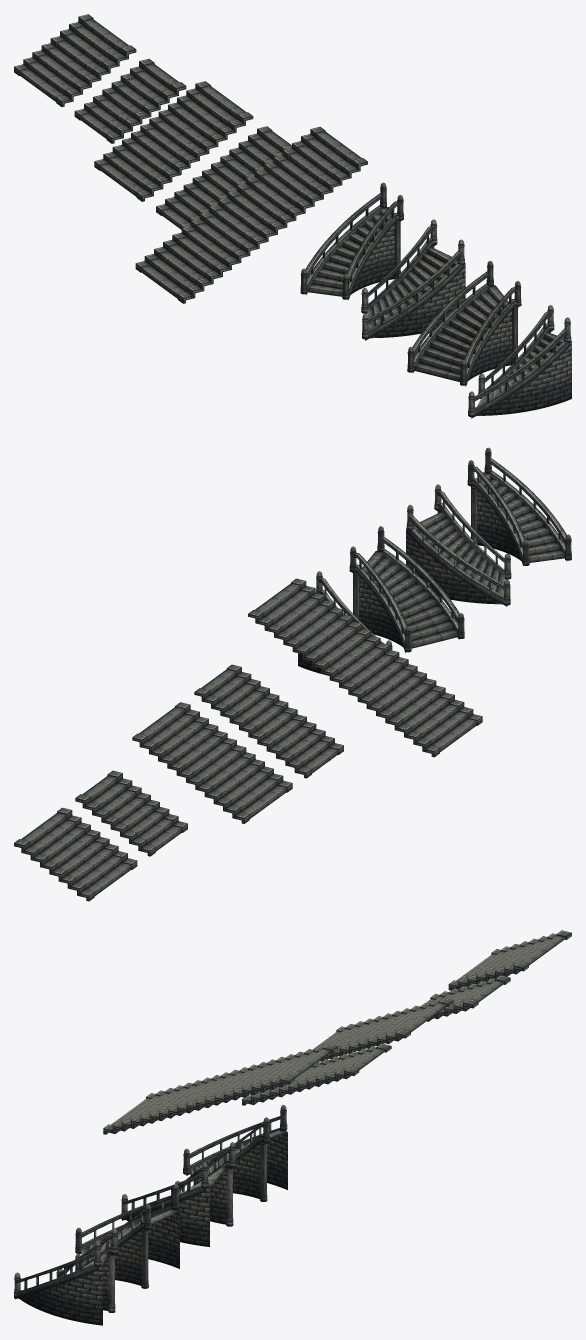
Rendered from EnvMdrMD_Daiseidou_A_Staires_3W8S.FBX.
3 renders of one model, top to bottom at view 1: azimuth 30°, elevation 25°; view 2: azimuth 150°, elevation 25°; view 3: azimuth 330°, elevation 25°, orthographic.
Parts seen in each view (by area): view 1: EnvMdrMD_Daiseidou_A_Staires_4W20S, EnvMdrMD_Daiseidou_A_Staires_4W12S, EnvMdrMD_Daiseidou_A_Staires_C_L_Wide, EnvMdrMD_Daiseidou_A_Staires_C_R_Wide, EnvMdrMD_Daiseidou_A_Staires_C_L, EnvMdrMD_Daiseidou_A_Staires_C_R, EnvMdrMD_Daiseidou_A_Staires_4W8S, EnvMdrMD_Daiseidou_A_Staires_3W12S, EnvMdrMD_Daiseidou_A_Staires_3W8S; view 2: EnvMdrMD_Daiseidou_A_Staires_4W20S, EnvMdrMD_Daiseidou_A_Staires_4W12S, EnvMdrMD_Daiseidou_A_Staires_C_R_Wide, EnvMdrMD_Daiseidou_A_Staires_C_L_Wide, EnvMdrMD_Daiseidou_A_Staires_3W12S, EnvMdrMD_Daiseidou_A_Staires_C_R, EnvMdrMD_Daiseidou_A_Staires_4W8S, EnvMdrMD_Daiseidou_A_Staires_3W8S, EnvMdrMD_Daiseidou_A_Staires_C_L; view 3: EnvMdrMD_Daiseidou_A_Staires_4W20S, EnvMdrMD_Daiseidou_A_Staires_C_R, EnvMdrMD_Daiseidou_A_Staires_C_L_Wide, EnvMdrMD_Daiseidou_A_Staires_C_L, EnvMdrMD_Daiseidou_A_Staires_C_R_Wide, EnvMdrMD_Daiseidou_A_Staires_4W12S, EnvMdrMD_Daiseidou_A_Staires_4W8S, EnvMdrMD_Daiseidou_A_Staires_3W12S, EnvMdrMD_Daiseidou_A_Staires_3W8S.
Boxes of the visible parts, bbox=[...] form: EnvMdrMD_Daiseidou_A_Staires_4W20S: bbox=[135, 126, 367, 303]; EnvMdrMD_Daiseidou_A_Staires_4W12S: bbox=[94, 81, 253, 201]; EnvMdrMD_Daiseidou_A_Staires_C_L_Wide: bbox=[407, 260, 521, 386]; EnvMdrMD_Daiseidou_A_Staires_C_R_Wide: bbox=[361, 219, 465, 340]; EnvMdrMD_Daiseidou_A_Staires_C_L: bbox=[300, 182, 403, 300]; EnvMdrMD_Daiseidou_A_Staires_C_R: bbox=[468, 305, 571, 418]; EnvMdrMD_Daiseidou_A_Staires_4W8S: bbox=[14, 14, 136, 106]; EnvMdrMD_Daiseidou_A_Staires_3W12S: bbox=[156, 126, 291, 229]; EnvMdrMD_Daiseidou_A_Staires_3W8S: bbox=[74, 59, 186, 143]; EnvMdrMD_Daiseidou_A_Staires_4W20S: bbox=[248, 578, 482, 757]; EnvMdrMD_Daiseidou_A_Staires_4W12S: bbox=[132, 702, 292, 823]; EnvMdrMD_Daiseidou_A_Staires_C_R_Wide: bbox=[349, 526, 464, 653]; EnvMdrMD_Daiseidou_A_Staires_C_L_Wide: bbox=[406, 484, 511, 606]; EnvMdrMD_Daiseidou_A_Staires_3W12S: bbox=[194, 664, 343, 778]; EnvMdrMD_Daiseidou_A_Staires_C_R: bbox=[467, 447, 571, 566]; EnvMdrMD_Daiseidou_A_Staires_4W8S: bbox=[14, 807, 137, 901]; EnvMdrMD_Daiseidou_A_Staires_3W8S: bbox=[75, 770, 187, 856]; EnvMdrMD_Daiseidou_A_Staires_C_L: bbox=[298, 571, 392, 675]; EnvMdrMD_Daiseidou_A_Staires_4W20S: bbox=[103, 1044, 337, 1134]; EnvMdrMD_Daiseidou_A_Staires_C_R: bbox=[14, 1228, 118, 1325]; EnvMdrMD_Daiseidou_A_Staires_C_L_Wide: bbox=[75, 1183, 179, 1288]; EnvMdrMD_Daiseidou_A_Staires_C_L: bbox=[183, 1105, 287, 1201]; EnvMdrMD_Daiseidou_A_Staires_C_R_Wide: bbox=[121, 1142, 236, 1246]; EnvMdrMD_Daiseidou_A_Staires_4W12S: bbox=[312, 998, 453, 1061]; EnvMdrMD_Daiseidou_A_Staires_4W8S: bbox=[448, 930, 571, 990]; EnvMdrMD_Daiseidou_A_Staires_3W12S: bbox=[242, 1043, 391, 1105]; EnvMdrMD_Daiseidou_A_Staires_3W8S: bbox=[426, 975, 510, 1021].
Size of the model in its own units: 1056 by 518 by 4499.
Materials: 1 (1 with a texture image).
